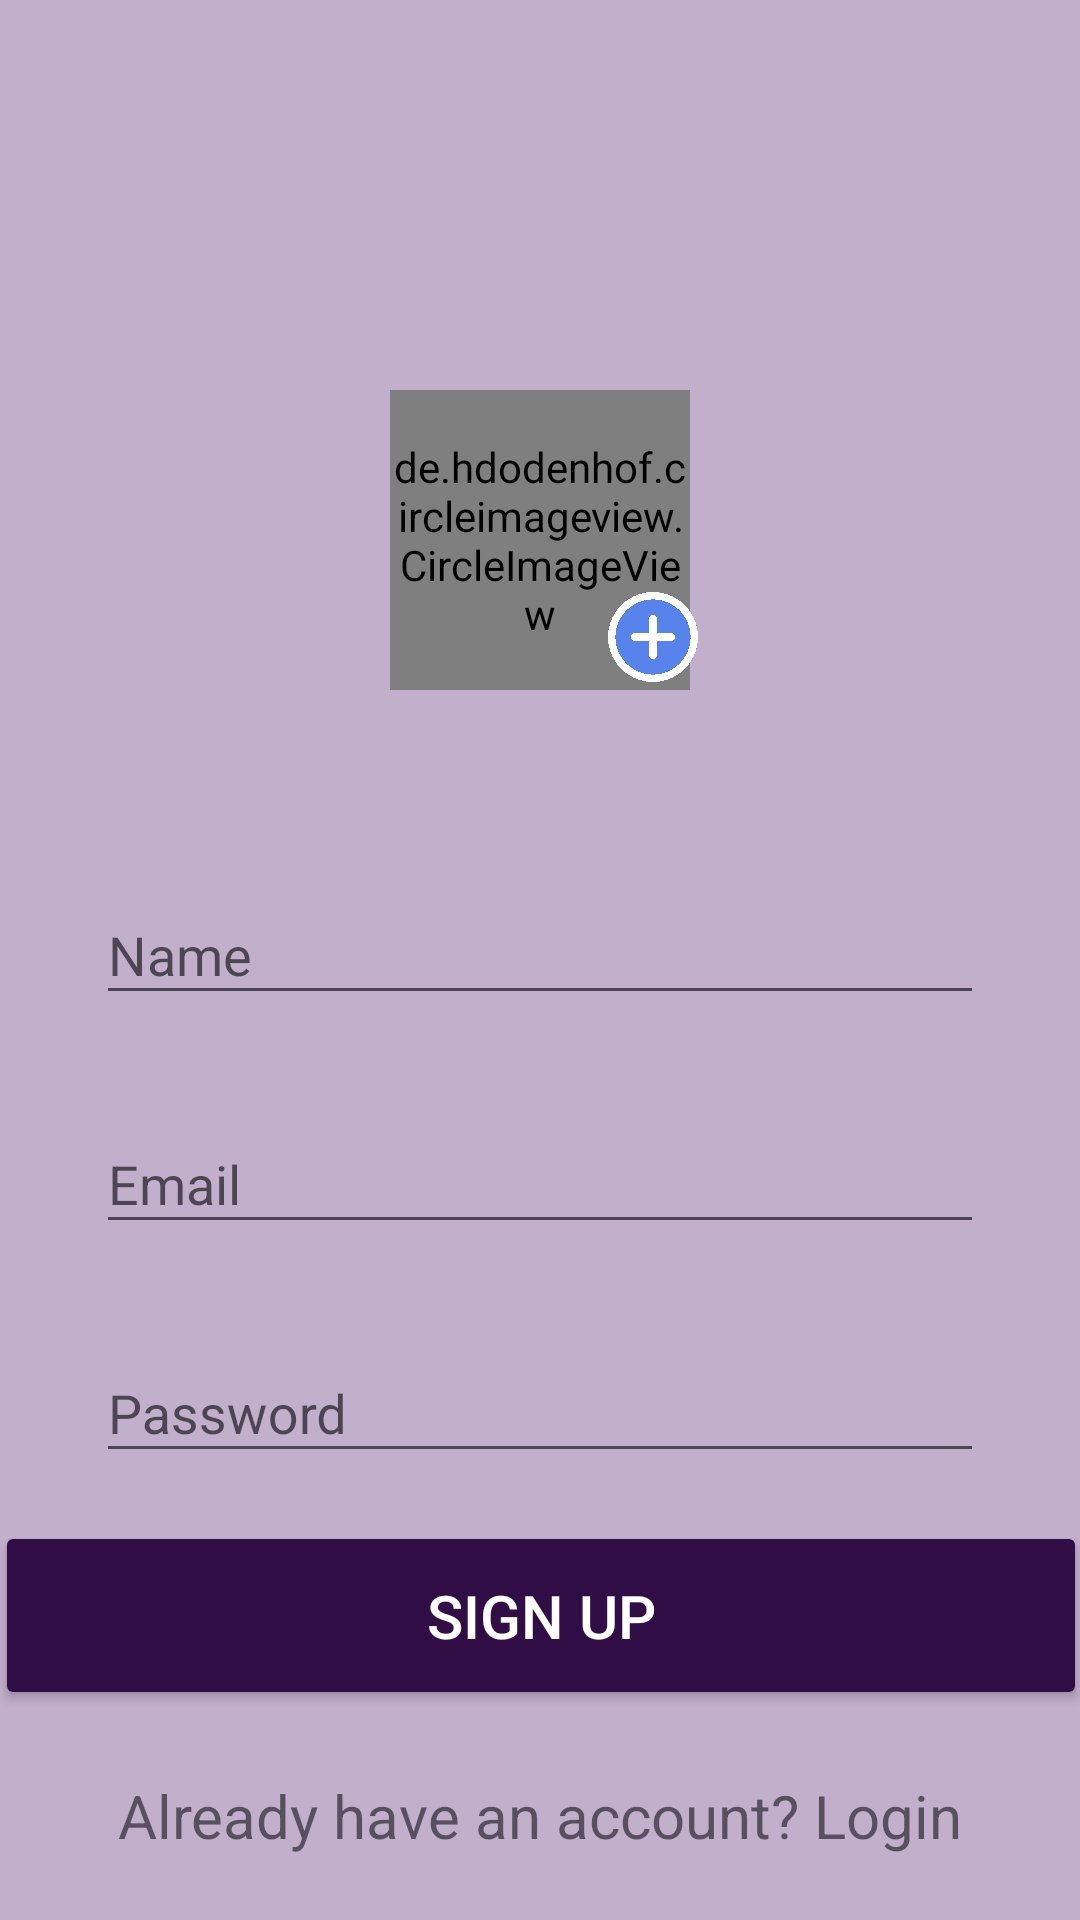

Screen size 1080px×1920px. Icon name, then its center in pixels as [x,y]:
plus: [653,637]
